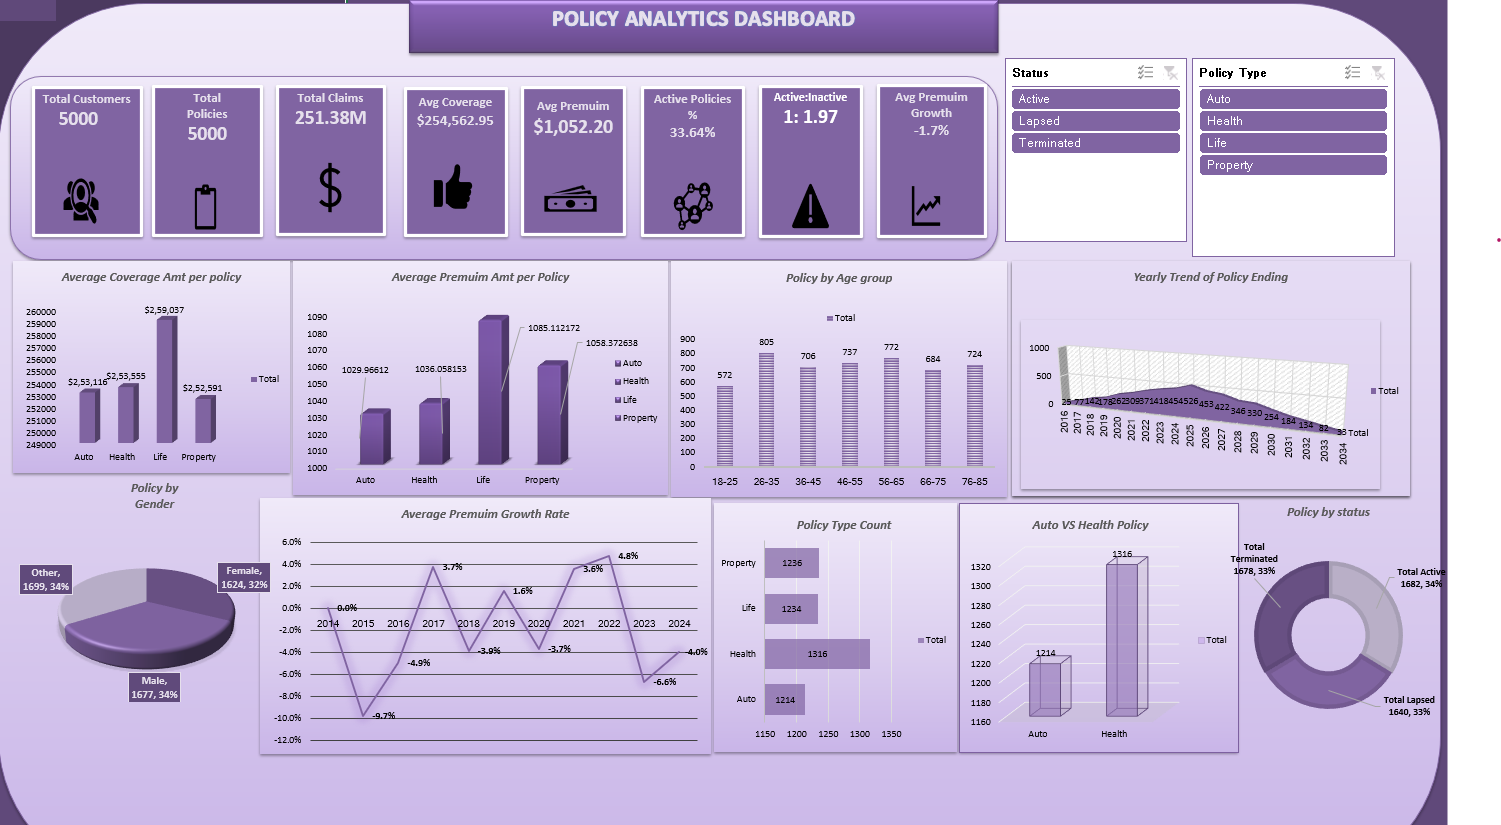

What the dashboard file says about the page in this screenshot:
{"tool":"tableau","page":{"name":"Dashboard 1","canvas":[1000,1000],"units":"permille","ordinal":0},"visuals":[{"type":"title","box":[4.2,9.4,991.5,67]},{"type":"worksheet","title":"6","mark":"Automatic","box":[817.1,63.5,149.7,203.3]},{"type":"worksheet","title":"9","mark":"Automatic","box":[673.5,64.6,148.5,232.7]},{"type":"worksheet","title":"1","mark":"Automatic","box":[100.8,65.8,149.7,203.3]},{"type":"worksheet","title":"3","mark":"Automatic","box":[387.4,65.8,143.6,213.9]},{"type":"worksheet","title":"19","mark":"Automatic","box":[531.1,65.8,158.7,204.5]},{"type":"worksheet","title":"2","mark":"Automatic","box":[244.4,67,146.1,205.6]},{"type":"worksheet","title":"14","mark":"Automatic","rows":["Policy ID"],"cols":["Policy Type"],"box":[783.3,270.3,212.4,271.4]},{"type":"filter","title":"4.1","param":"[federated.1rjwa8y1yr3f7s185h67c1y7q8z6].[none:Policy Type:nk]","box":[6.6,272.6,87.5,171.6]},{"type":"worksheet","title":"4.1","mark":"Automatic","rows":["Coverage Amount"],"cols":["Policy Type"],"box":[102.6,272.6,222.1,264.4]},{"type":"worksheet","title":"12","mark":"Pie","cols":["Calculation_1027810636406789","Calculation_1027810636406789"],"box":[591.4,272.6,190.1,267.9]},{"type":"worksheet","title":"5","mark":"Automatic","rows":["Premium Amount"],"cols":["Policy Type"],"box":[327.7,273.8,260.7,265.6]},{"type":"filter","title":"7,8","param":"[federated.1rjwa8y1yr3f7s185h67c1y7q8z6].[none:Status:nk]","box":[6.9,450.1,87.9,141]},{"type":"worksheet","title":"20","mark":"Line","rows":["Policy ID"],"cols":["Policy End Date"],"box":[543.1,542.9,436.9,226.8]},{"type":"worksheet","title":"15","mark":"Automatic","rows":["Policy Type"],"cols":["Policy ID"],"box":[329.5,544.1,211.8,226.8]},{"type":"worksheet","title":"7,8","mark":"Pie","box":[99.6,546.4,227.5,224.4]},{"type":"filter","title":"12","param":"[federated.1rjwa8y1yr3f7s185h67c1y7q8z6].[none:Calculation_1027810632351748:nk]","box":[6.6,598.1,89.3,208]},{"type":"worksheet","title":"13","mark":"Automatic","box":[849.7,774.4,153.3,212.7]},{"type":"worksheet","title":"10,11","mark":"Automatic","rows":["Policy Type"],"cols":["Calculation_1027810632351748"],"box":[587.8,776.7,258.3,205.6]},{"type":"worksheet","title":"18","mark":"Automatic","rows":["Premium Amount"],"cols":["Policy Start Date"],"box":[97.2,780.3,488.2,205.6]},{"type":"filter","title":"12","param":"[federated.1rjwa8y1yr3f7s185h67c1y7q8z6].[none:Gender:nk]","box":[7.2,815.5,86.9,170.4]}]}

Visuals, with their boxes on the dashboard's canvas, which has no fixed pixel size, in thousandths of its width and height (x1, y1, x2, y2). These are canvas units, not pixel positions in the 1501x825 screenshot, which may show the page scaled, cropped or inside an application window:
title: x1=4 y1=9 x2=996 y2=76
"6" worksheet: x1=817 y1=64 x2=967 y2=267
"9" worksheet: x1=674 y1=65 x2=822 y2=297
"1" worksheet: x1=101 y1=66 x2=250 y2=269
"3" worksheet: x1=387 y1=66 x2=531 y2=280
"19" worksheet: x1=531 y1=66 x2=690 y2=270
"2" worksheet: x1=244 y1=67 x2=390 y2=273
"14" worksheet: x1=783 y1=270 x2=996 y2=542
"4.1" filter: x1=7 y1=273 x2=94 y2=444
"4.1" worksheet: x1=103 y1=273 x2=325 y2=537
"12" worksheet (Pie marks): x1=591 y1=273 x2=782 y2=540
"5" worksheet: x1=328 y1=274 x2=588 y2=539
"7,8" filter: x1=7 y1=450 x2=95 y2=591
"20" worksheet (Line marks): x1=543 y1=543 x2=980 y2=770
"15" worksheet: x1=330 y1=544 x2=541 y2=771
"7,8" worksheet (Pie marks): x1=100 y1=546 x2=327 y2=771
"12" filter: x1=7 y1=598 x2=96 y2=806
"13" worksheet: x1=850 y1=774 x2=1003 y2=987
"10,11" worksheet: x1=588 y1=777 x2=846 y2=982
"18" worksheet: x1=97 y1=780 x2=585 y2=986
"12" filter: x1=7 y1=816 x2=94 y2=986
